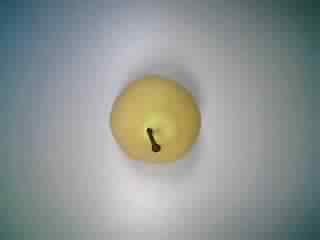pear: (102, 65, 209, 177)
